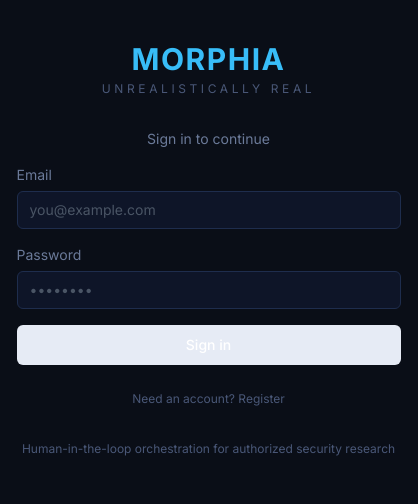
Test case: SignIn › shows the server's error message and does not navigate on invalid credentials
This screenshot has width=418, height=504.
Type "researcher@example.com" into the field labelled "Email".
click(208, 210); type("researcher@example.com")  # box [16,191,400,229]
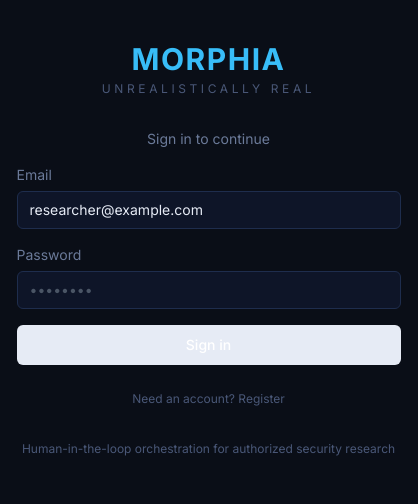
Type "wrong-password" into the password field labelled "Password".
click(208, 290); type("wrong-password")  # box [16,271,400,309]
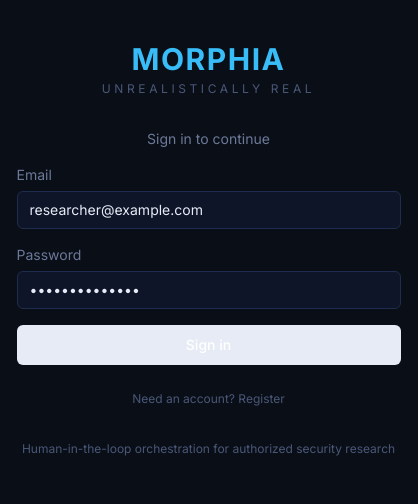
Click the button "Sign in".
click(208, 345)  # box [16,325,400,365]
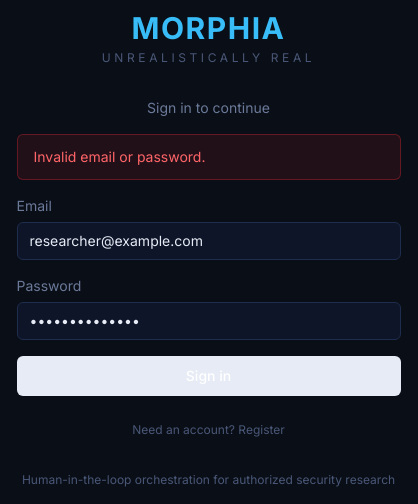
Now the text "Invalid email or password." is shown, box [16,134,400,180]
